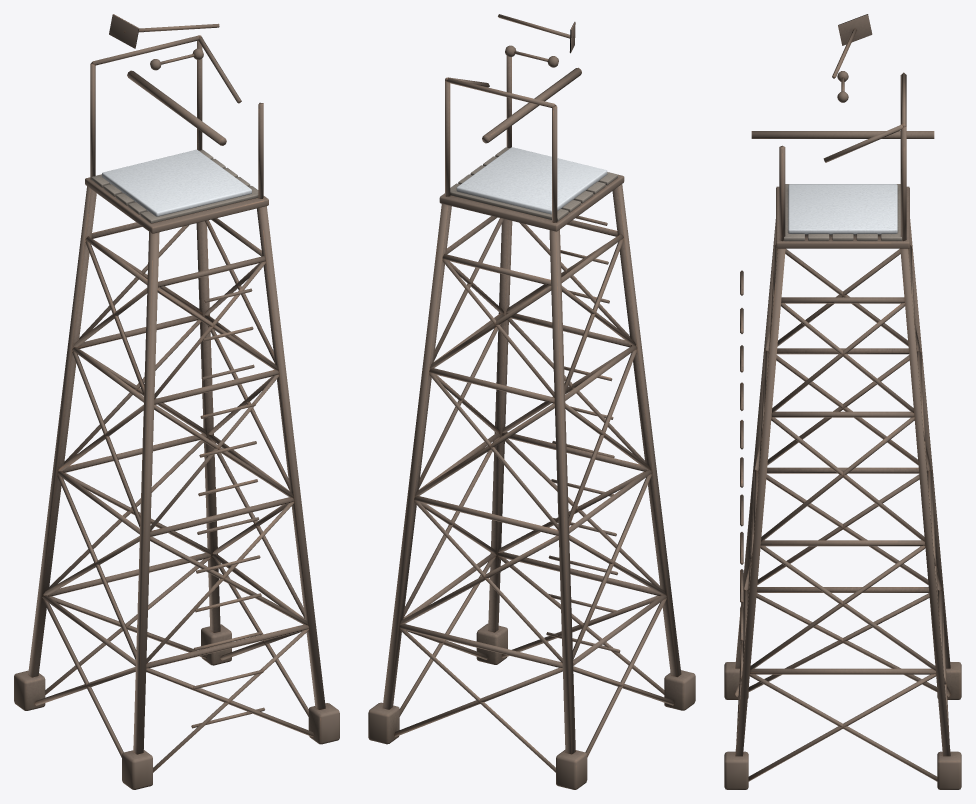
Rendered from old_meteo_tower.glb.
The picture shows the model from 3 angles, left to right: view 1: azimuth 30°, elevation 25°; view 2: azimuth 150°, elevation 25°; view 3: azimuth 270°, elevation 25°; orthographic projection.
Parts seen in each view (by area): view 1: old_meteo_tower; view 2: old_meteo_tower; view 3: old_meteo_tower.
Part boxes in pixels (left/top/right/bottom): old_meteo_tower: left=14, top=14, right=339, bottom=789; old_meteo_tower: left=368, top=14, right=695, bottom=789; old_meteo_tower: left=724, top=14, right=961, bottom=789.
Bounding box in the file's own units: 1.56 × 5.11 × 1.56.
1 material, 1 textured.
